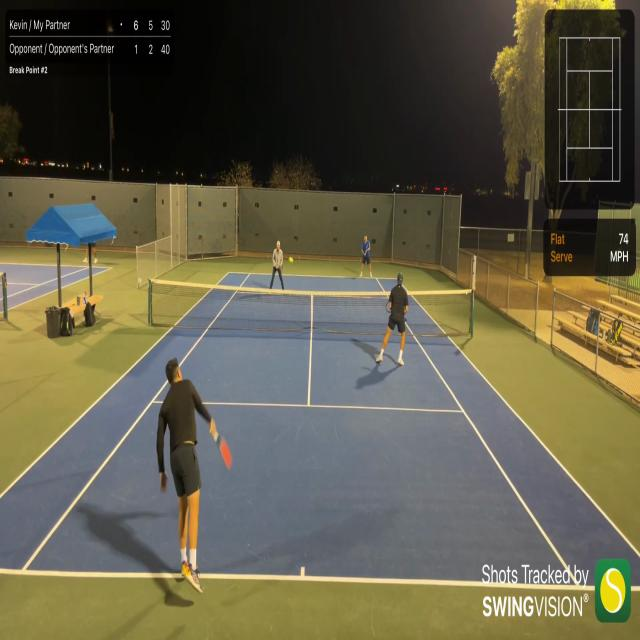ball: (289, 257, 293, 263)
